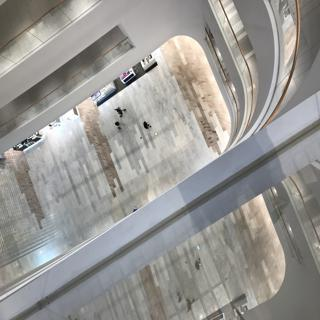person: (139, 116, 159, 134), (109, 120, 125, 139), (113, 105, 128, 119)
